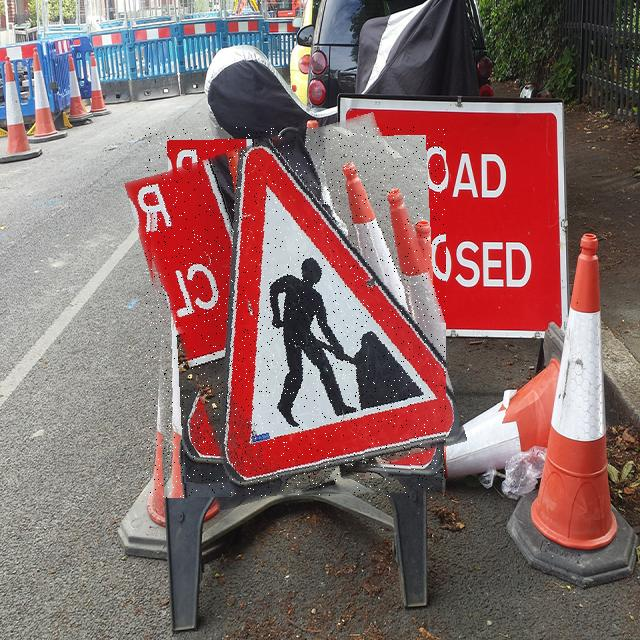roadwork: (145, 127, 446, 498)
